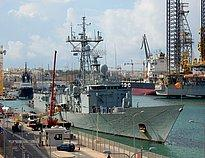MIL_Ship: (31, 11, 187, 141)
